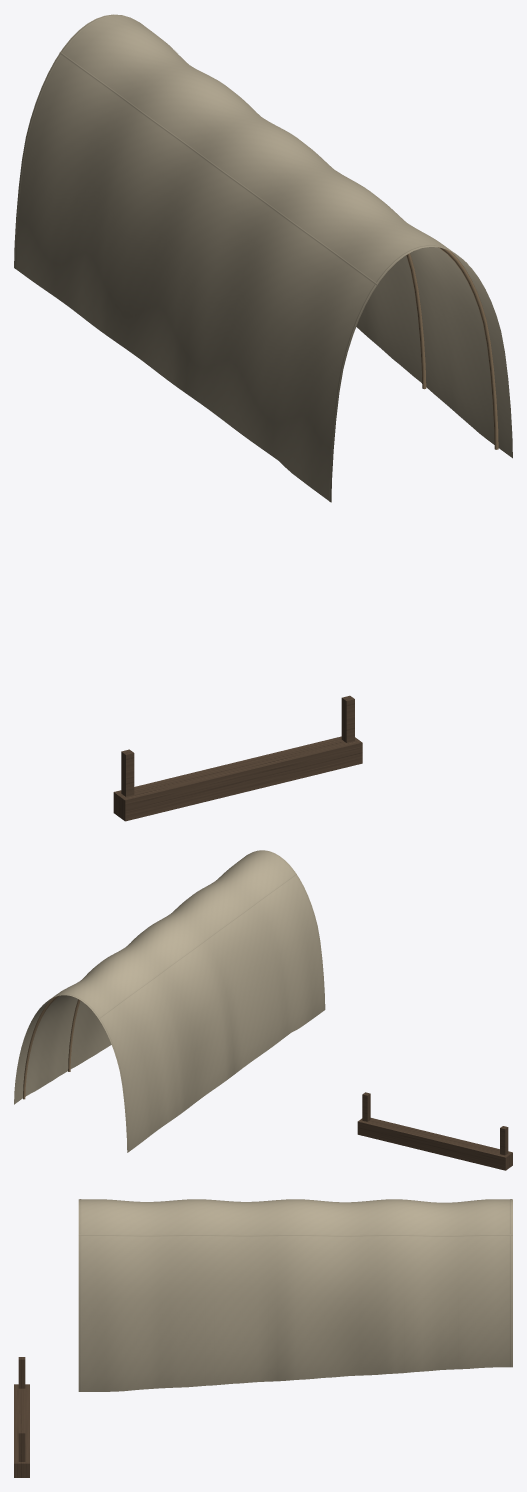
Rendered from covered-v2-cover.glb.
3 views of the same model, one above another, from view 1: azimuth 30°, elevation 25°; view 2: azimuth 150°, elevation 25°; view 3: azimuth 270°, elevation 25° (orthographic). The views are drawn at different scales.
Parts seen in each view (by area): view 1: covered_original_canvas_sheet, covered_preserved_laid_by_yoke, covered_original_sewn_and_folded_hems, covered_original_five_bows; view 2: covered_original_canvas_sheet, covered_preserved_laid_by_yoke, covered_original_sewn_and_folded_hems, covered_original_five_bows; view 3: covered_original_canvas_sheet, covered_original_sewn_and_folded_hems, covered_preserved_laid_by_yoke.
Boxes of the visible parts, <box> form: covered_original_canvas_sheet: <box>14,14,512,502</box>; covered_preserved_laid_by_yoke: <box>113,695,362,821</box>; covered_original_sewn_and_folded_hems: <box>14,14,467,502</box>; covered_original_five_bows: <box>406,247,498,449</box>; covered_original_canvas_sheet: <box>14,850,325,1151</box>; covered_preserved_laid_by_yoke: <box>357,1092,512,1170</box>; covered_original_sewn_and_folded_hems: <box>42,850,324,1152</box>; covered_original_five_bows: <box>23,995,80,1099</box>; covered_original_canvas_sheet: <box>78,1199,512,1391</box>; covered_original_sewn_and_folded_hems: <box>78,1199,512,1391</box>; covered_preserved_laid_by_yoke: <box>14,1357,29,1477</box>.
Bounding box in the file's own units: 2.6 × 2.6 × 3.78.
Materials: 4 (4 with a texture image).
